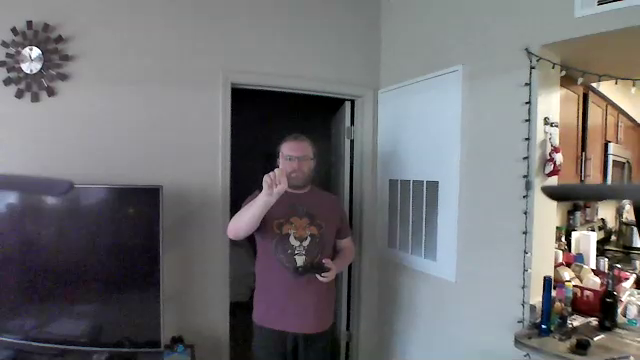up: (259, 150, 291, 198)
